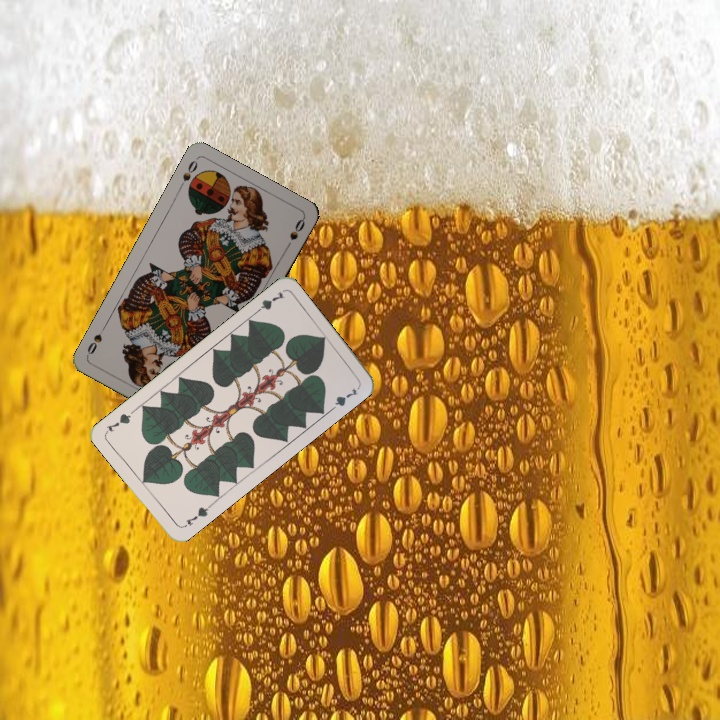G7: (250, 287, 287, 317), (179, 501, 214, 530)
SO: (175, 156, 200, 193)
